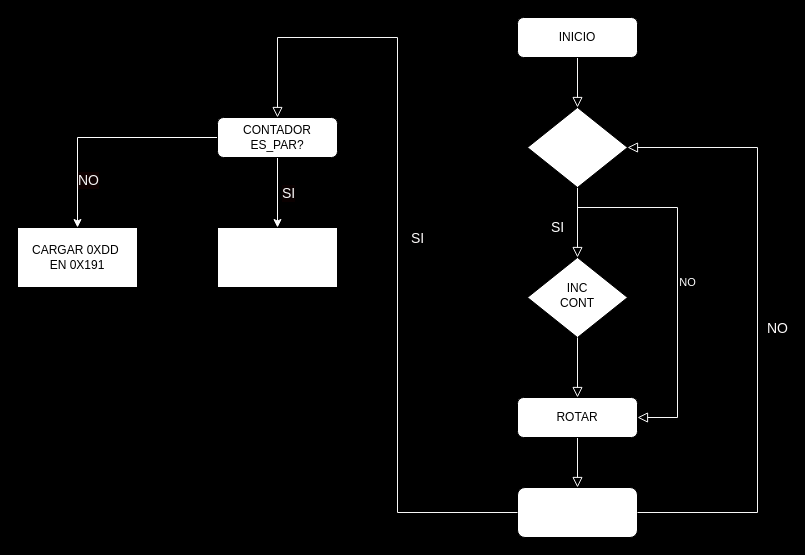
The diagram is 805 pixels wide and 555 high, and some of its shapes have lost their labels. The shapes that lost their labels are listed below. From the top down, each one's centre as x and y in pixels, then its label:
At pixel 577 147: "VARIABLE ES 1?".
At pixel 277 257: "CARGAR 0XEE EN 0X110".
At pixel 577 512: "DECREMENTO CANTIDAD ES 0?".
